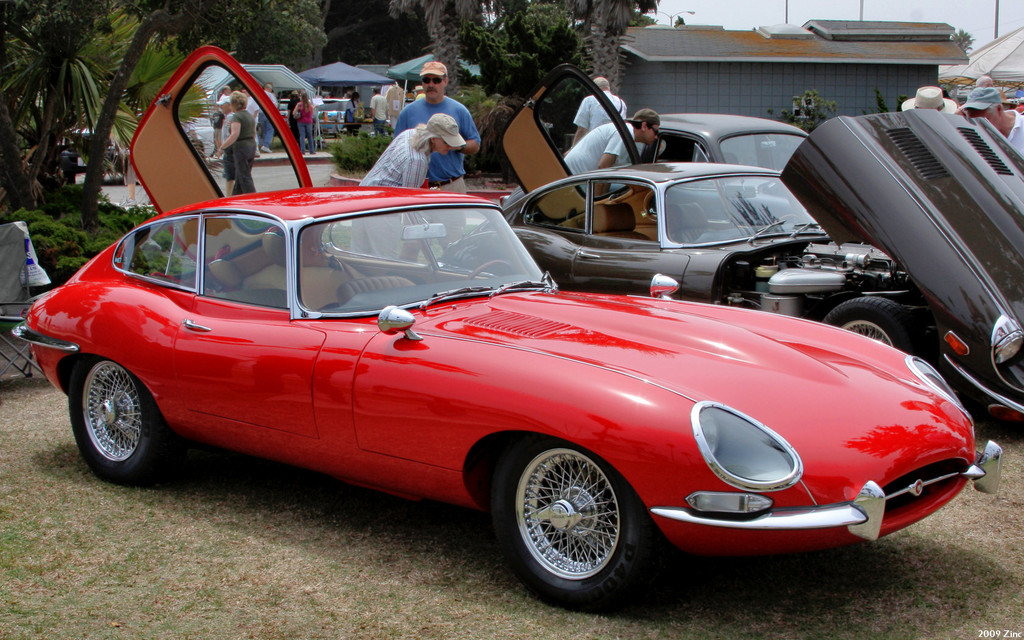Car: (8, 42, 1002, 610), (435, 62, 1023, 422), (610, 115, 821, 230), (312, 99, 346, 133)
